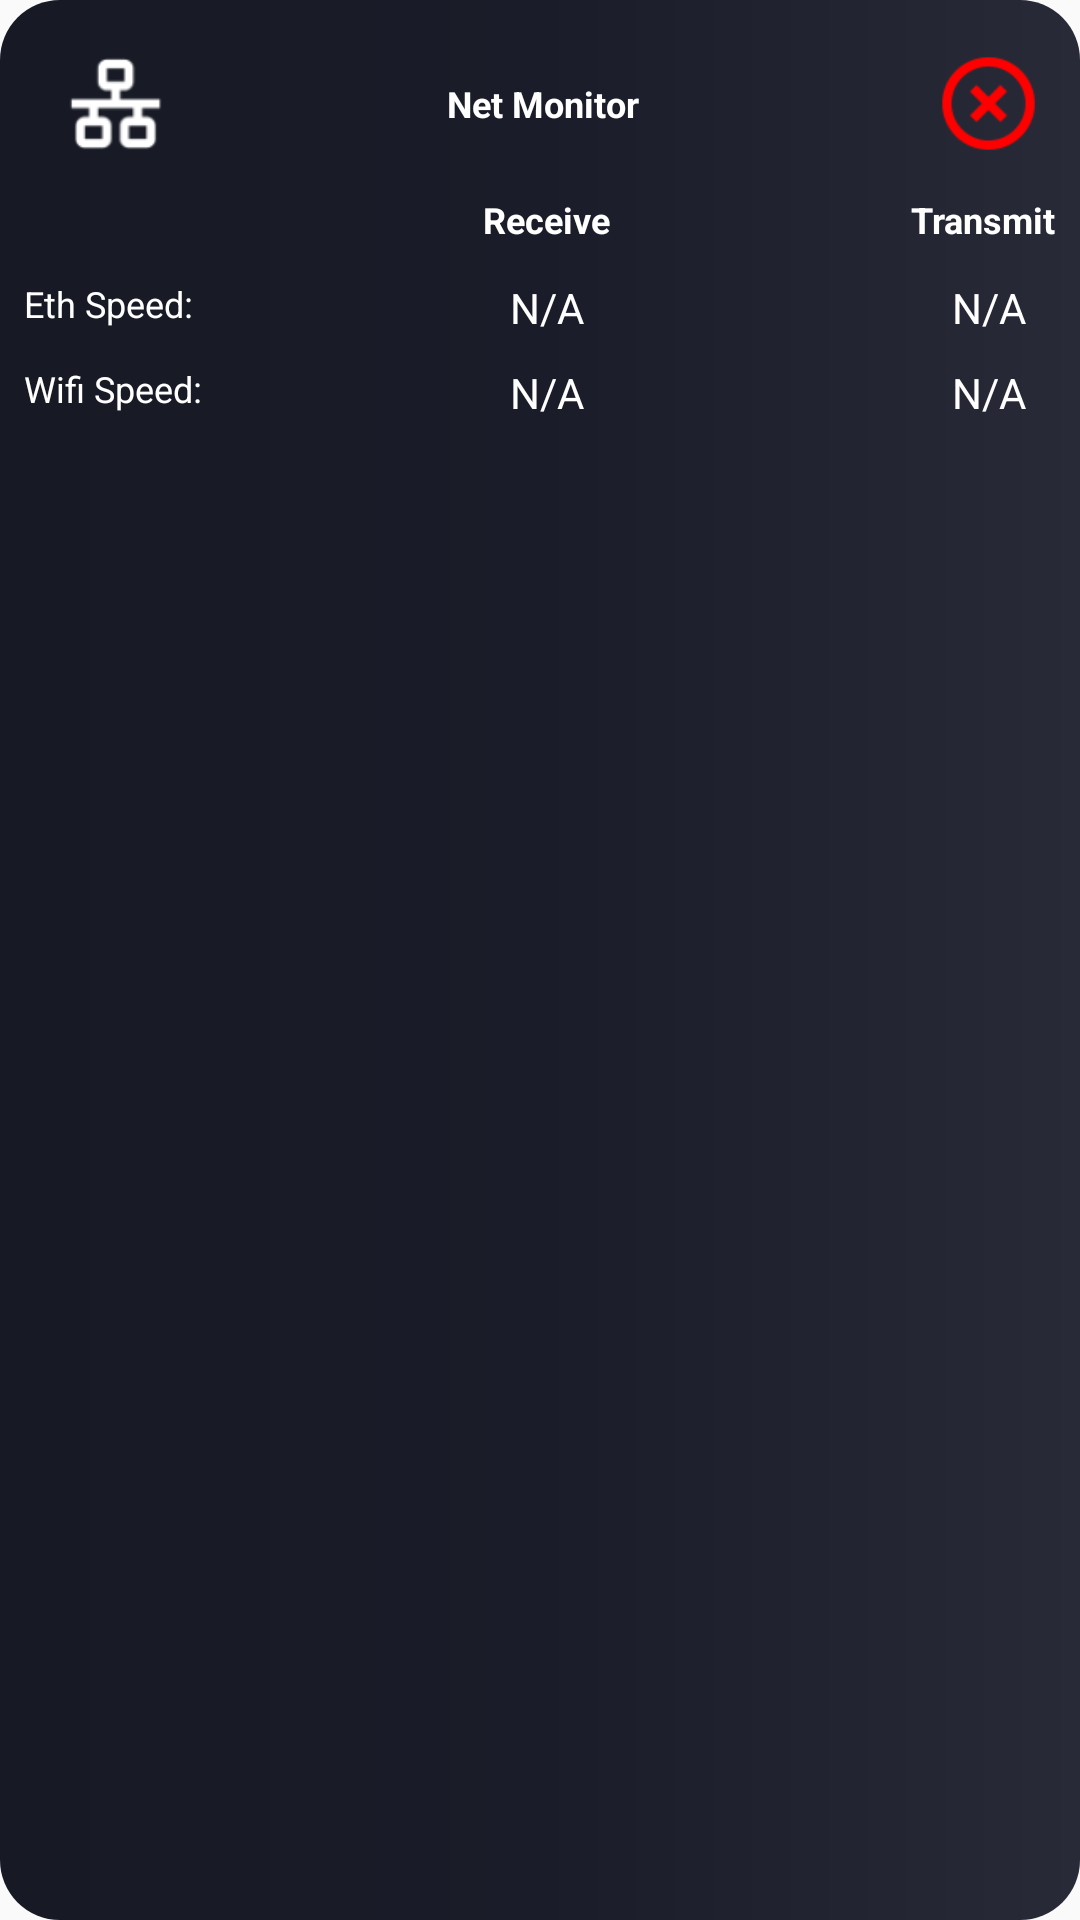

Where icons sit on this 1080 x 1920 app screen, as (x1, y1, x2, y2):
close: (942, 57, 1035, 150)
network: (70, 58, 161, 149)
